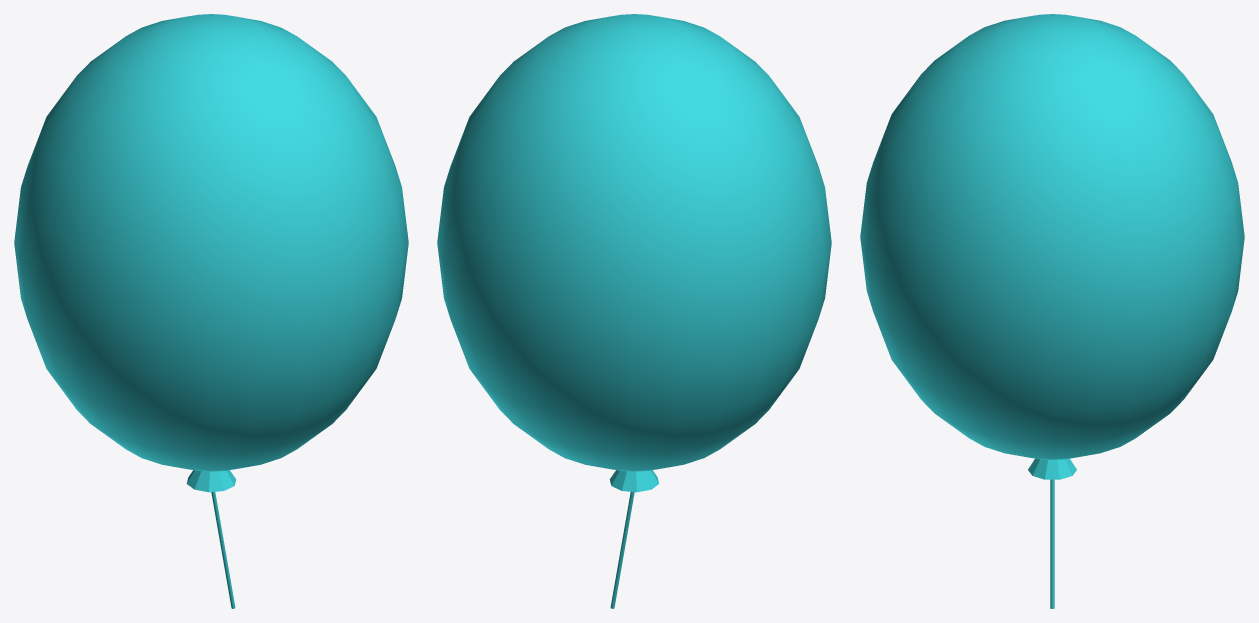
Rendered from balloon_cyan.glb.
The picture shows the model from 3 angles, left to right: view 1: azimuth 30°, elevation 25°; view 2: azimuth 150°, elevation 25°; view 3: azimuth 270°, elevation 25°; orthographic projection. The views are drawn at different scales.
Parts seen in each view (by area): view 1: SM_LatexBalloon; view 2: SM_LatexBalloon; view 3: SM_LatexBalloon.
Boxes of the visible parts, <box> form: SM_LatexBalloon: <box>14,14,408,608</box>; SM_LatexBalloon: <box>437,14,831,608</box>; SM_LatexBalloon: <box>860,14,1244,608</box>.
Bounding box in the file's own units: 0.28 × 0.4583 × 0.28.
